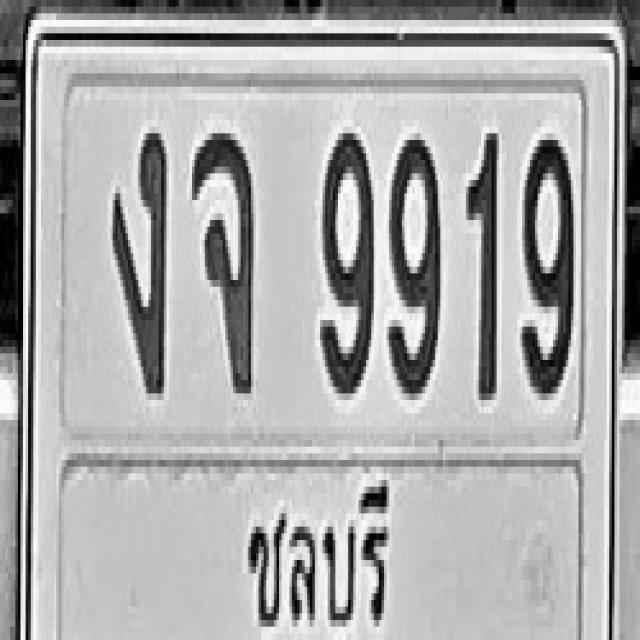1: (465, 127, 498, 400)
16NgorNgu: (110, 127, 166, 393)
17ChorChan: (192, 127, 253, 393)
9: (320, 127, 374, 393), (522, 134, 574, 394), (388, 134, 439, 394)
Chonburi: (237, 470, 396, 638)
